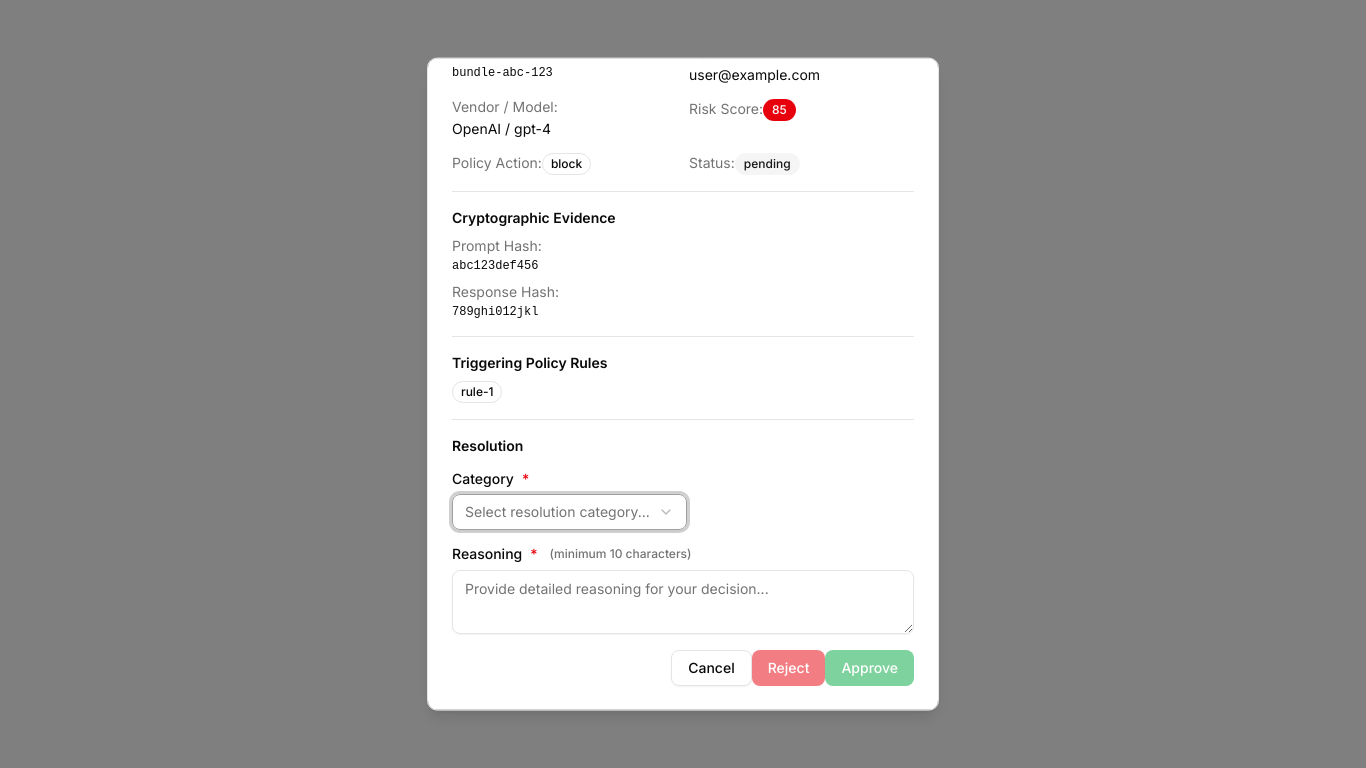
Test case: ReviewDialog › shows character count warning when notes are too short
(page scrolled)
Step 1. Type "short" into the text box with placeholder "Provide detailed reasoning for your decision..." → point(683, 602), box top-left (452, 570), bottom-right (914, 634)
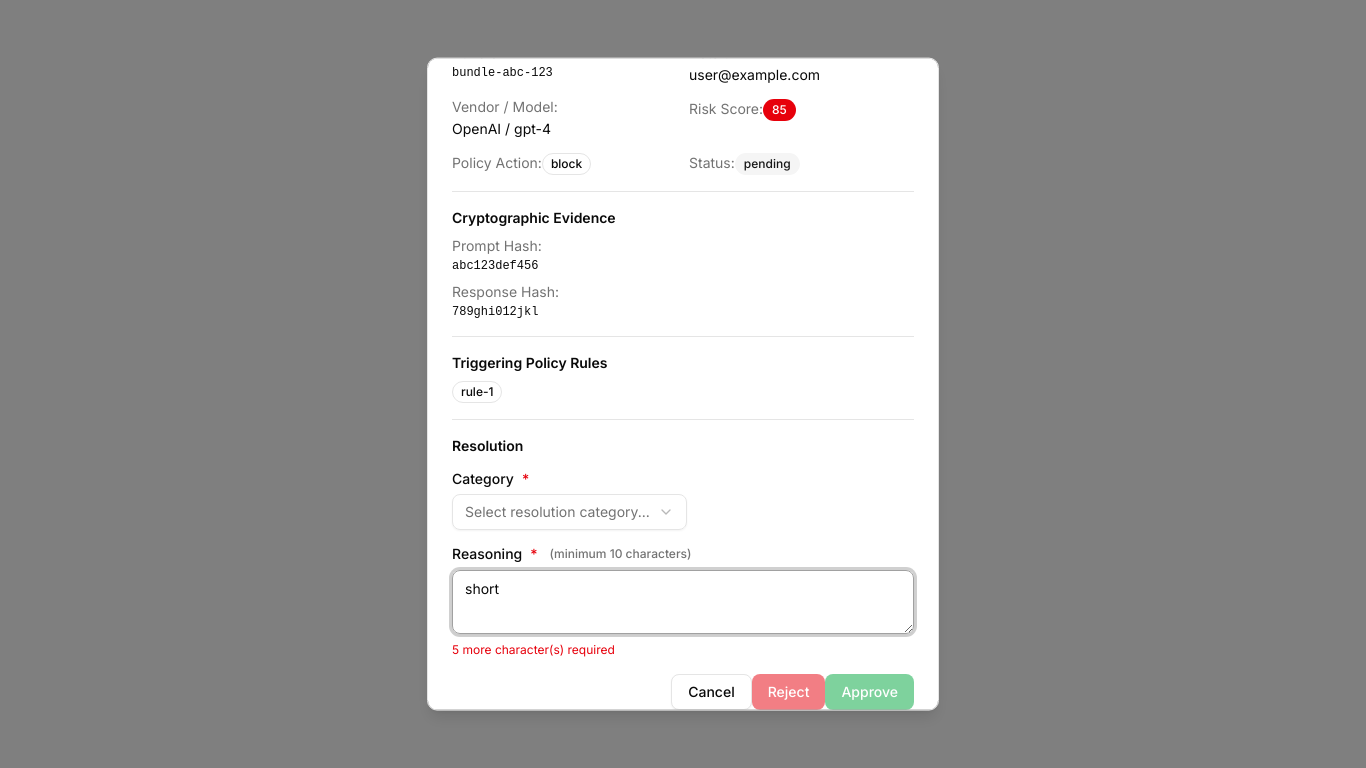
Expected: the text "5 more character(s) required" is shown, top-left (452, 642), bottom-right (615, 657)
